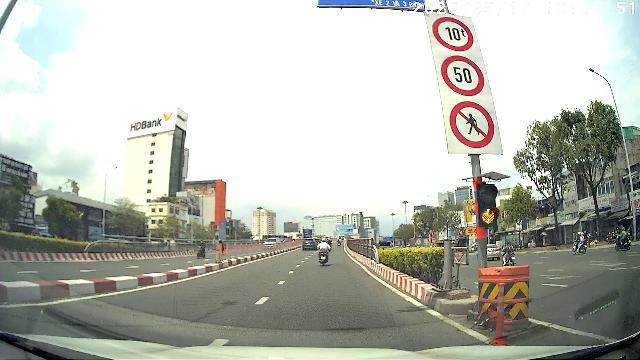127-toc-do-toi-da-50: (440, 54, 486, 98)
